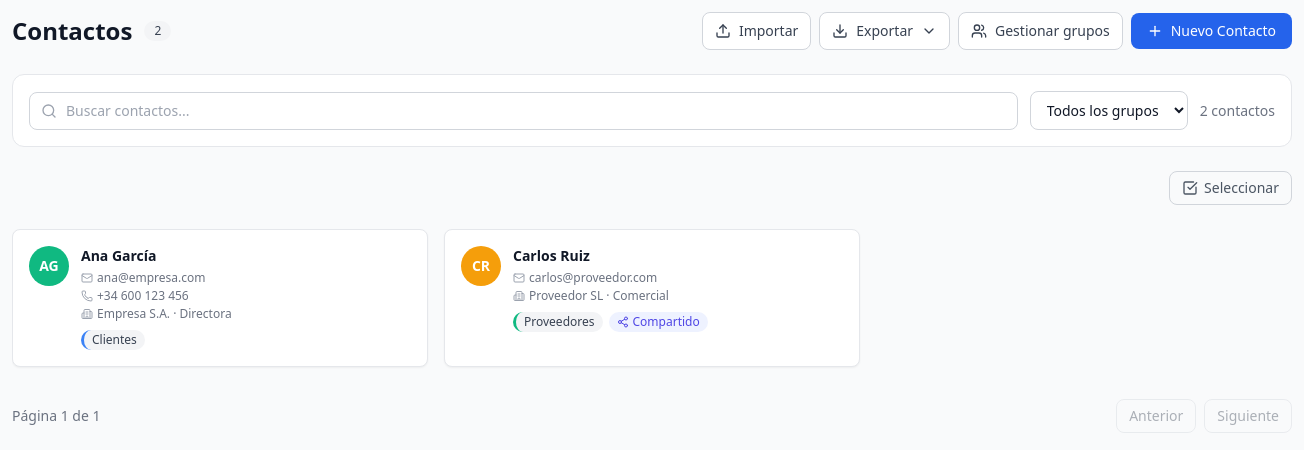
ContactsPage › filtra por búsqueda en nombre
Type "Ana" into the field with placeholder "Buscar contactos...".
click(523, 110); type("Ana")  # box [29,92,1018,130]
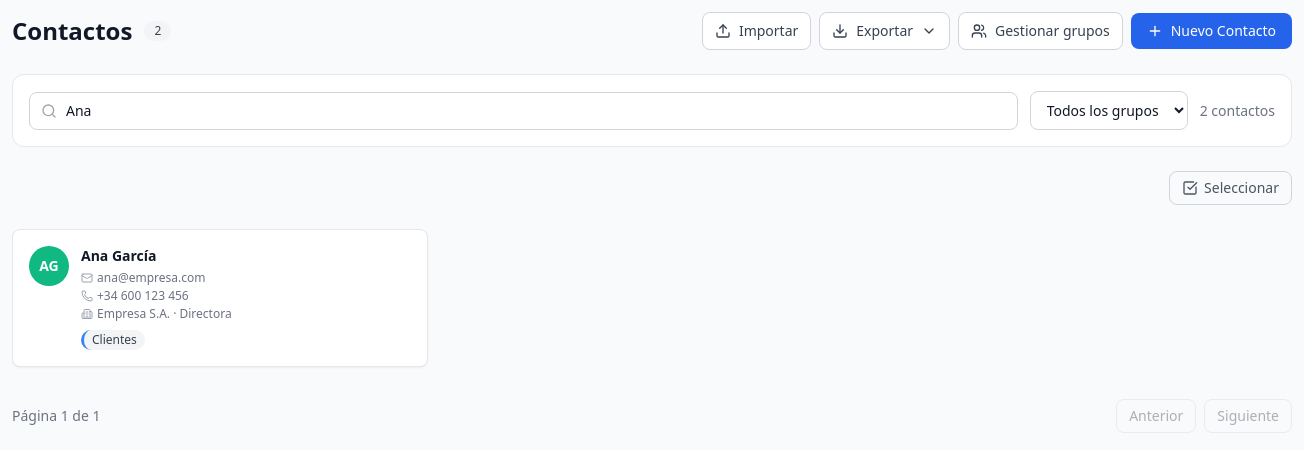
Expected: the heading "Ana García" is shown, [81,246,156,266]
Expected: the heading "Carlos Ruiz" is gone
